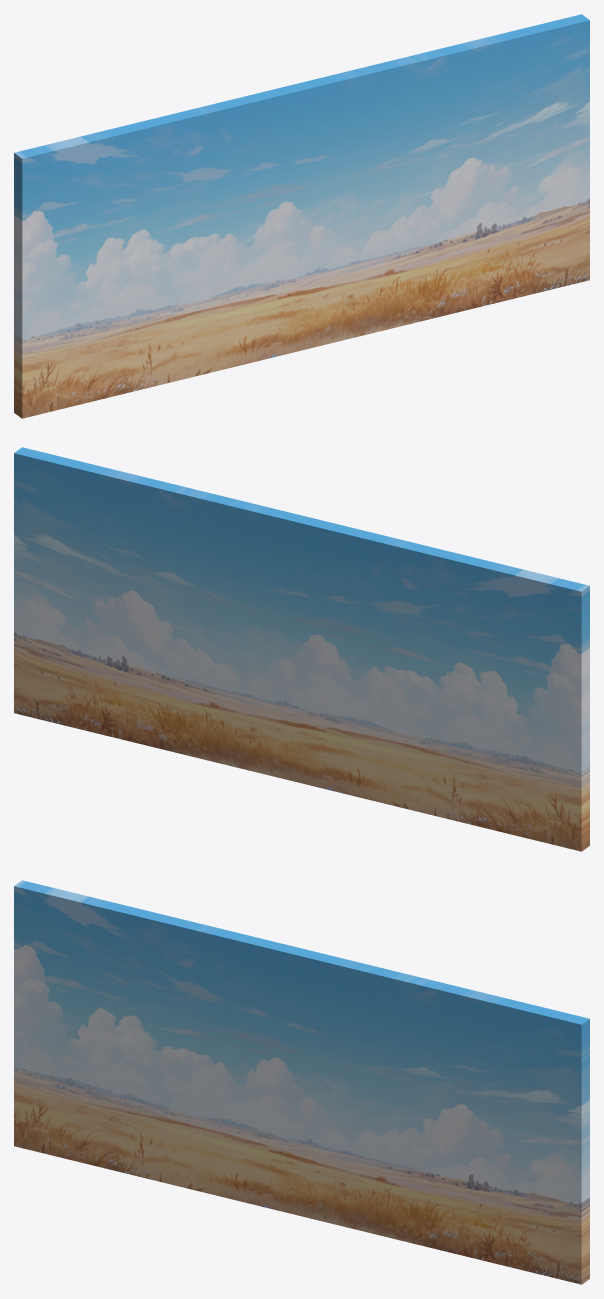
File: squidgame_props_wall4.fbx
3 renders of one model, top to bottom at view 1: azimuth 30°, elevation 25°; view 2: azimuth 150°, elevation 25°; view 3: azimuth 330°, elevation 25°, orthographic.
Parts seen in each view (by area): view 1: squidgame_props_wall4; view 2: squidgame_props_wall4; view 3: squidgame_props_wall4.
Boxes of the visible parts, box(x1,y1,x2,y2) form: squidgame_props_wall4: box(14, 14, 589, 418); squidgame_props_wall4: box(14, 447, 589, 851); squidgame_props_wall4: box(14, 880, 589, 1284).
Bounding box in the file's own units: 40 × 17.5 × 1.
